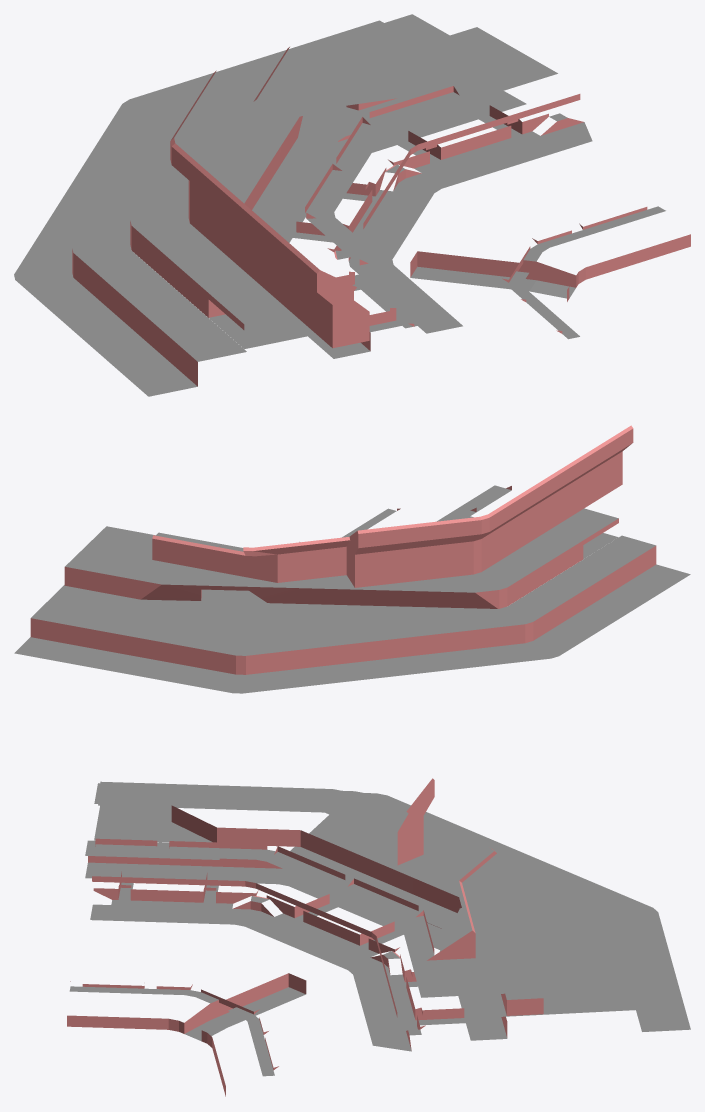
The picture shows the model from 3 angles, top to bottom: view 1: azimuth 30°, elevation 25°; view 2: azimuth 150°, elevation 25°; view 3: azimuth 270°, elevation 25°; orthographic projection. The views are drawn at different scales.
Parts seen in each view (by area): view 1: Base_10; view 2: Base_10; view 3: Base_10.
Boxes of the visible parts, <box> form: Base_10: <box>14,14,690,396</box>; Base_10: <box>14,425,690,693</box>; Base_10: <box>67,778,690,1096</box>.
Size of the model in its own units: 132 by 37.12 by 141.
